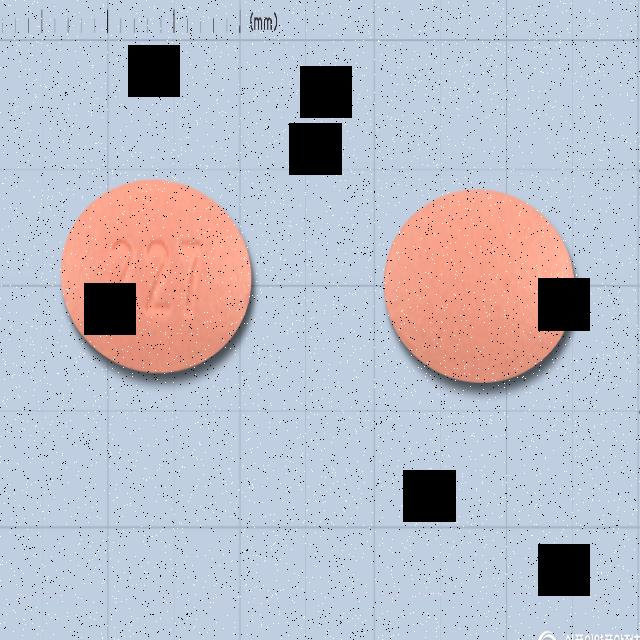Isentress HD: (59, 178, 252, 373)
